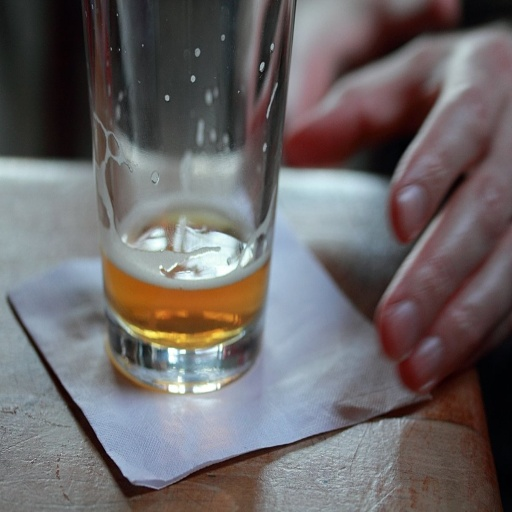hand: (282, 23, 511, 395)
